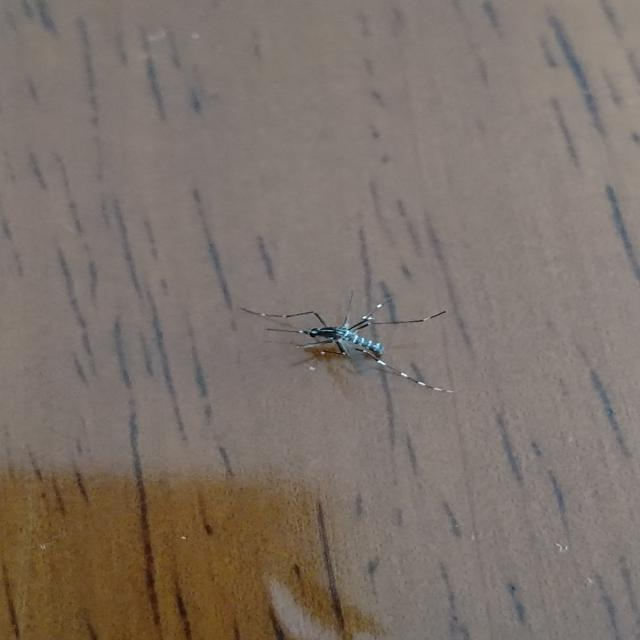albopictus: (237, 282, 462, 396)
